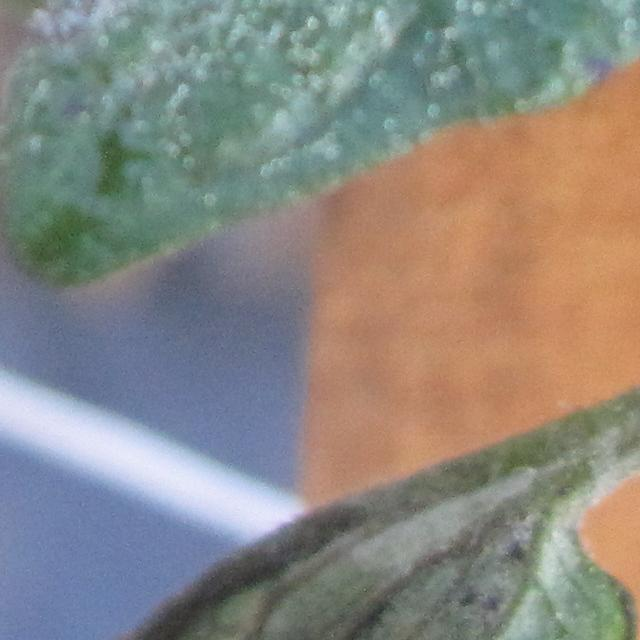Tomato leaf late blight: (0, 0, 640, 494)
